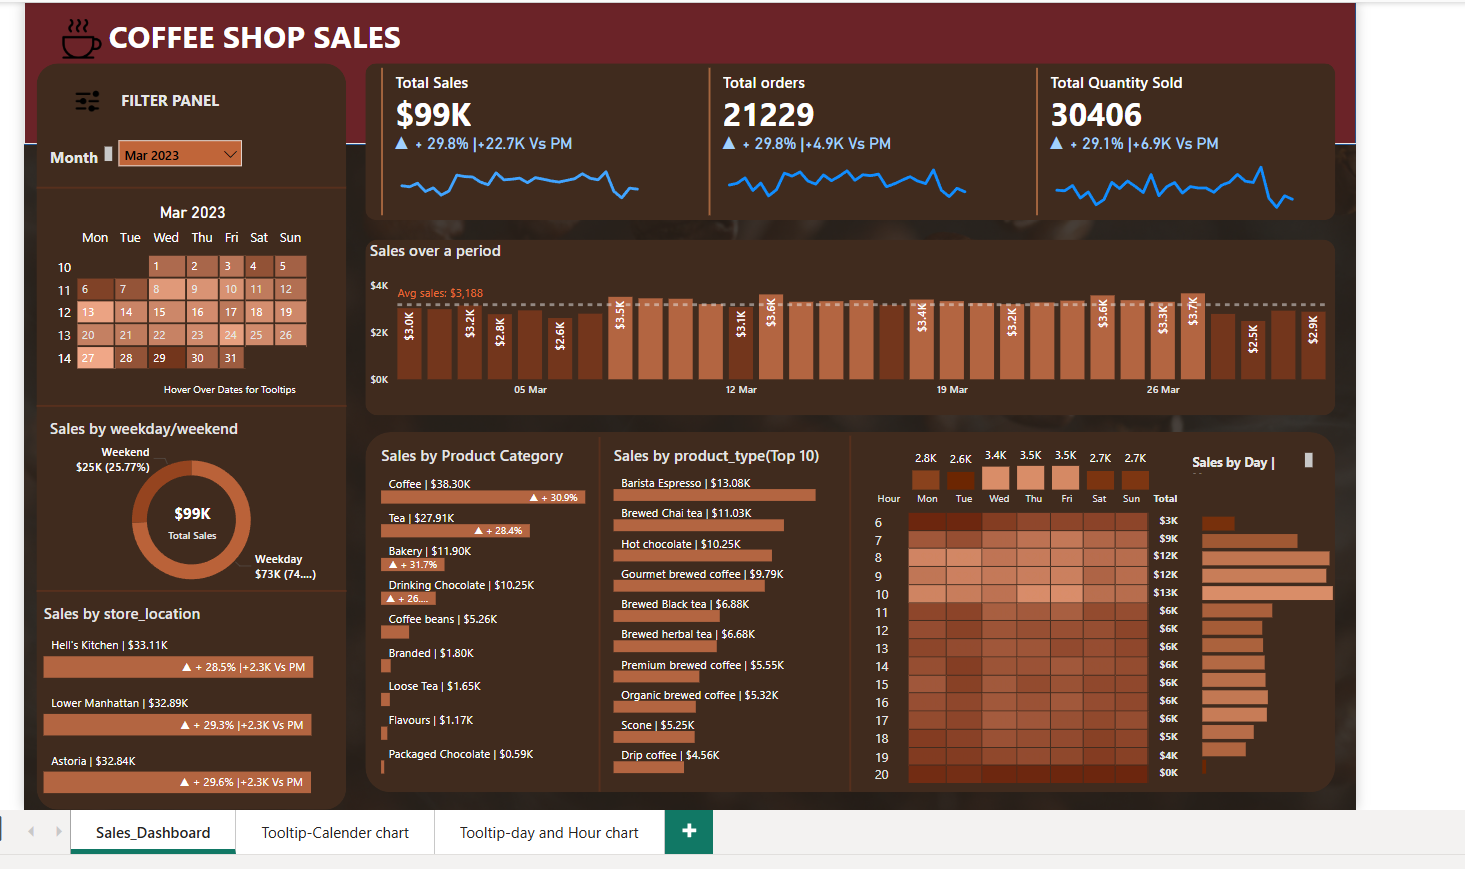

The dashboard page shown, as its layout file describes it:
{"tool":"powerbi","page":{"name":"Sales_Dashboard","canvas":[1400,850],"ordinal":0},"visuals":[{"type":"shape","box":[0,0,1400.3,150.1],"z":0},{"type":"cardVisual","fields":{"Data":["Transactions.Total Sales"]},"box":[370.7,64.5,300.2,165.1],"z":0,"group":"g1"},{"type":"cardVisual","fields":{"Data":["Transactions.Total orders"]},"box":[715.2,64.5,300.2,165.1],"z":0,"group":"g2"},{"type":"cardVisual","fields":{"Data":["Transactions.Total Quantity Sold"]},"box":[1059.6,64.5,300.2,165.1],"z":0,"group":"g3"},{"type":"shape","box":[13.5,64.5,325.7,785],"z":1000},{"type":"lineChart","fields":{"Y":["Transactions.Total Sales"],"Category":["Date_table.Date.Variation.Date Hierarchy.Year","Date_table.Date.Variation.Date Hierarchy.Quarter","Date_table.Date.Variation.Date Hierarchy.Month","Date_table.Date.Variation.Date Hierarchy.Day"]},"box":[382.7,138,277.7,85.5],"z":1000,"group":"g1"},{"type":"lineChart","fields":{"Category":["Date_table.Date.Variation.Date Hierarchy.Year","Date_table.Date.Variation.Date Hierarchy.Quarter","Date_table.Date.Variation.Date Hierarchy.Month","Date_table.Date.Variation.Date Hierarchy.Day"],"Y":["Transactions.Total orders"]},"box":[727.2,138,277.7,85.5],"z":1000,"group":"g2"},{"type":"lineChart","fields":{"Category":["Date_table.Date.Variation.Date Hierarchy.Year","Date_table.Date.Variation.Date Hierarchy.Quarter","Date_table.Date.Variation.Date Hierarchy.Month","Date_table.Date.Variation.Date Hierarchy.Day"],"Y":["Transactions.Total Quantity Sold"]},"box":[1071.6,138,277.7,85.5],"z":1000,"group":"g3"},{"type":"shape","box":[358.7,64.5,1020,165],"z":2000},{"type":"textbox","box":[84,9,337.7,55.5],"z":3000},{"type":"image","box":[25.5,13.5,72,51],"z":4000},{"type":"slicer","fields":{"Values":["Date_table.Month Year"]},"box":[94.6,141.1,139.6,45],"z":5000},{"type":"group","id":"g1","title":"Group 1","box":[370.7,64.5,300.2,165.1],"z":6000},{"type":"group","id":"g2","title":"Group 1","box":[715.2,64.5,300.2,165.1],"z":7000},{"type":"group","id":"g3","title":"Group 1","box":[1059.6,64.5,300.2,165.1],"z":8000},{"type":"pivotTable","fields":{"Rows":["Date_table.Week number"],"Columns":["Date_table.Day name"],"Values":["Min(Date_table.Day_number)"]},"box":[25.5,211.6,304.7,202.6],"z":9000},{"type":"textbox","box":[142.6,391.7,162.1,33],"z":10000},{"type":"shape","box":[12.8,380.3,326.2,89.7],"z":11000},{"type":"shape","box":[13.5,178.6,325.7,33],"z":12000},{"type":"donutChart","title":"Sales by weekday/weekend","fields":{"Category":["Date_table.weekday/weekend"],"Y":["Transactions.Total Sales"]},"box":[22.8,435.8,307.6,195.1],"z":13000},{"type":"card","fields":{"Values":["Transactions.Total Sales"]},"box":[129.6,501.3,94,91.2],"z":14000},{"type":"shape","box":[12.8,574,326.2,89.7],"z":15000},{"type":"clusteredBarChart","title":"Sales by store_location","fields":{"Category":["Transactions.store_location"],"Y":["Transactions.Placeholder","Transactions.Total Sales"]},"box":[15.7,631,320.5,209.4],"z":16000},{"type":"shape","box":[358.9,249.2,1019.8,185],"z":17000},{"type":"shape","box":[358.9,451.5,1019.8,378.9],"z":18000},{"type":"columnChart","title":"Sales over a period","fields":{"Category":["Transactions.transaction_date"],"Y":["Transactions.Total Sales"]},"box":[358.9,249.2,1019.8,175.2],"z":19000},{"type":"clusteredBarChart","title":"Sales by Product Category","fields":{"Y":["Transactions.Placeholder","Transactions.Total Sales"],"Category":["Transactions.product_category"]},"box":[370.3,465.7,250.7,351.8],"z":20000},{"type":"shape","box":[588.2,457.2,32.8,373.2],"z":21000},{"type":"clusteredBarChart","title":"Sales by product_type(Top 10)","fields":{"Y":["Transactions.Placeholder","Transactions.Total Sales"],"Category":["Transactions.product_type"]},"box":[615.4,465.3,250.6,351.2],"z":22000},{"type":"shape","box":[852.5,456.3,31.5,373.7],"z":23000},{"type":"pivotTable","fields":{"Rows":["Transactions.Hour"],"Columns":["Date_table.Day name"],"Values":["Transactions.Total Sales"]},"box":[884,510.3,370.7,319.7],"z":24000},{"type":"barChart","fields":{"Category":["Transactions.Hour"],"Y":["CountNonNull(Transactions.product_type)"]},"box":[1233.7,528.3,166.6,288.2],"z":25000},{"type":"columnChart","title":"Sales by Day | Hours","fields":{"Y":["CountNonNull(Transactions.product_type)"],"Category":["Date_table.Day name"]},"box":[929,457.8,259.6,61.5],"z":26000},{"type":"textbox","box":[1223.2,469.8,136.6,31.5],"z":27000},{"type":"textbox","box":[22.5,147.1,75,31.5],"z":28000},{"type":"image","box":[48,85.5,36,37.5],"z":29000},{"type":"textbox","box":[97.6,87.1,136.6,37.5],"z":30000}]}

Visuals, with their boxes on the page's 1400x850 design canvas (x1, y1, x2, y2). These are canvas units, not pixel positions in the 1465x869 screenshot, which may show the page scaled, cropped or inside an application window:
shape: 0:0:1400:150
cardVisual - Transactions.Total Sales: 371:64:671:230
cardVisual - Transactions.Total orders: 715:64:1015:230
cardVisual - Transactions.Total Quantity Sold: 1060:64:1360:230
shape: 14:64:339:850
lineChart - Transactions.Total Sales x Date_table.Date.Variation.Date Hierarchy.Year: 383:138:660:224
lineChart - Date_table.Date.Variation.Date Hierarchy.Year x Date_table.Date.Variation.Date Hierarchy.Quarter: 727:138:1005:224
lineChart - Date_table.Date.Variation.Date Hierarchy.Year x Date_table.Date.Variation.Date Hierarchy.Quarter: 1072:138:1349:224
shape: 359:64:1379:230
textbox: 84:9:422:64
image: 26:14:98:64
slicer - Date_table.Month Year: 95:141:234:186
"Group 1" group: 371:64:671:230
"Group 1" group: 715:64:1015:230
"Group 1" group: 1060:64:1360:230
pivotTable - Date_table.Week number x Date_table.Day name: 26:212:330:414
textbox: 143:392:305:425
shape: 13:380:339:470
shape: 14:179:339:212
"Sales by weekday/weekend" donutChart: 23:436:330:631
card - Transactions.Total Sales: 130:501:224:592
shape: 13:574:339:664
"Sales by store_location" clusteredBarChart: 16:631:336:840
shape: 359:249:1379:434
shape: 359:452:1379:830
"Sales over a period" columnChart: 359:249:1379:424
"Sales by Product Category" clusteredBarChart: 370:466:621:818
shape: 588:457:621:830
"Sales by product_type(Top 10)" clusteredBarChart: 615:465:866:816
shape: 852:456:884:830
pivotTable - Transactions.Hour x Date_table.Day name: 884:510:1255:830
barChart - Transactions.Hour x CountNonNull(Transactions.product_type): 1234:528:1400:816
"Sales by Day | Hours" columnChart: 929:458:1189:519
textbox: 1223:470:1360:501
textbox: 22:147:98:179
image: 48:86:84:123
textbox: 98:87:234:125
